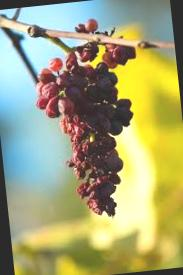Grape Rotten: (26, 13, 151, 223)
